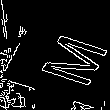M_NW: (14, 24, 96, 86)
